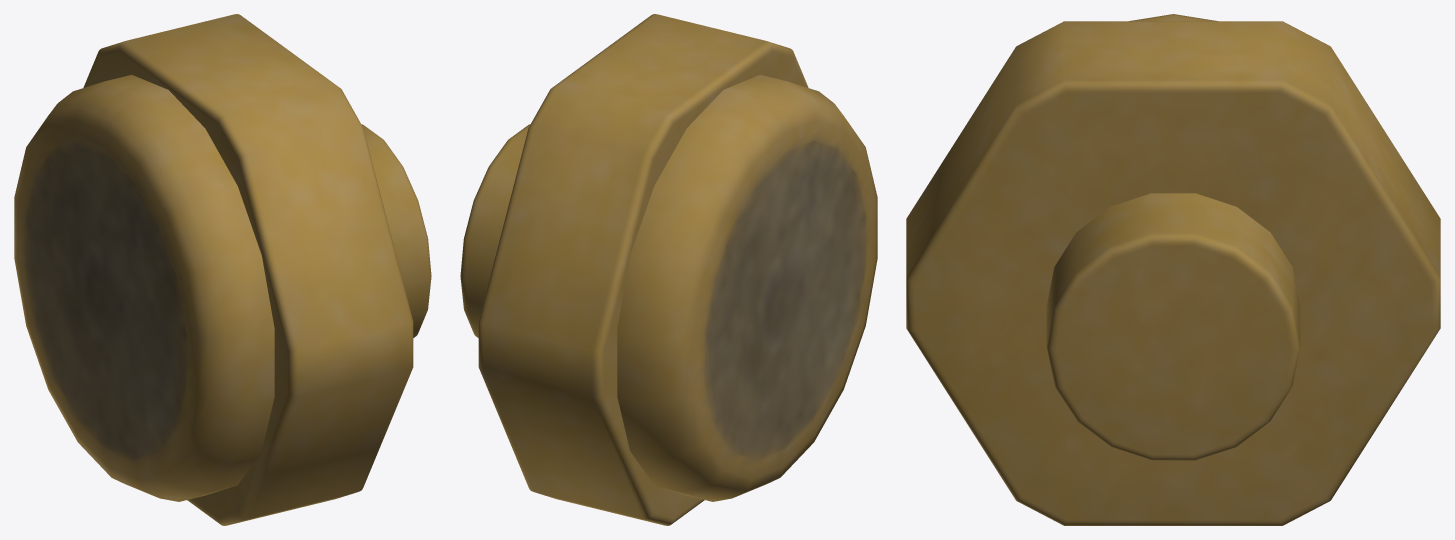
File: 消声接头01.fbx
3 views of the same model, side by side, from view 1: azimuth 30°, elevation 25°; view 2: azimuth 150°, elevation 25°; view 3: azimuth 270°, elevation 25° (orthographic). The views are drawn at different scales.
Parts seen in each view (by area): view 1: 消声接头01; view 2: 消声接头01; view 3: 消声接头01.
Boxes of the visible parts, x1=… form: 消声接头01: x1=14, y1=14, x2=431, y2=525; 消声接头01: x1=460, y1=14, x2=877, y2=525; 消声接头01: x1=906, y1=14, x2=1440, y2=525.
Bounding box in the file's own units: 1.05 × 1.53 × 1.66.
